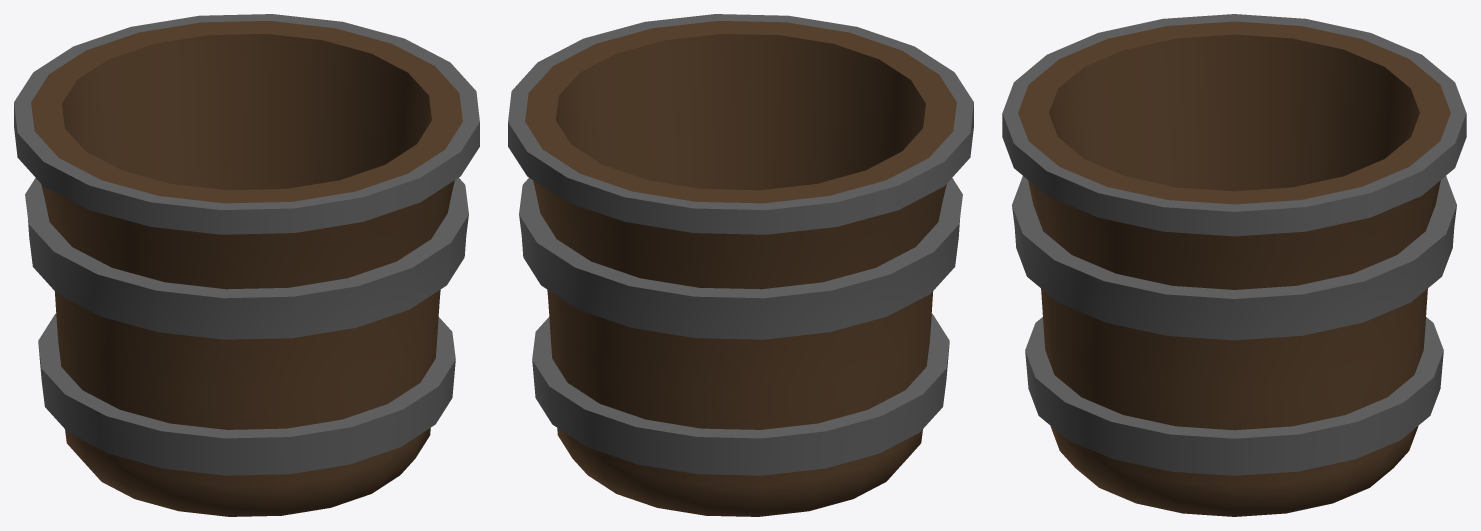
File: Bucket.fbx
The picture shows the model from 3 angles, left to right: view 1: azimuth 30°, elevation 25°; view 2: azimuth 150°, elevation 25°; view 3: azimuth 270°, elevation 25°; orthographic projection.
Parts seen in each view (by area): view 1: pCylinder1; view 2: pCylinder1; view 3: pCylinder1.
Part boxes in pixels (<box>): pCylinder1: <box>14,14,479,516</box>; pCylinder1: <box>508,14,973,516</box>; pCylinder1: <box>1002,14,1466,516</box>.
Bounding box in the file's own units: 0.0861 × 0.0676 × 0.0853.
